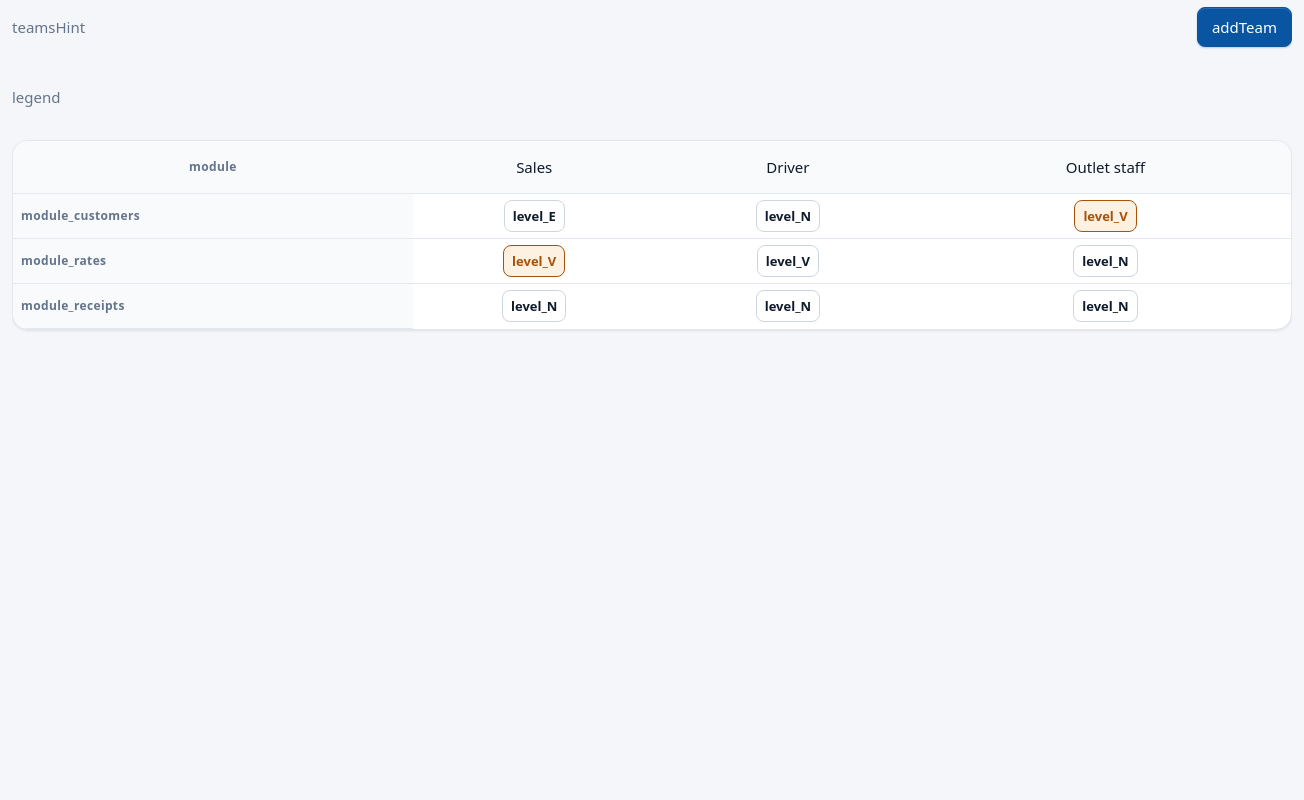
Test: TeamsTab › offers reset to default for a changed system team
Click the button "Sales": (534, 167) [501,147,567,187]
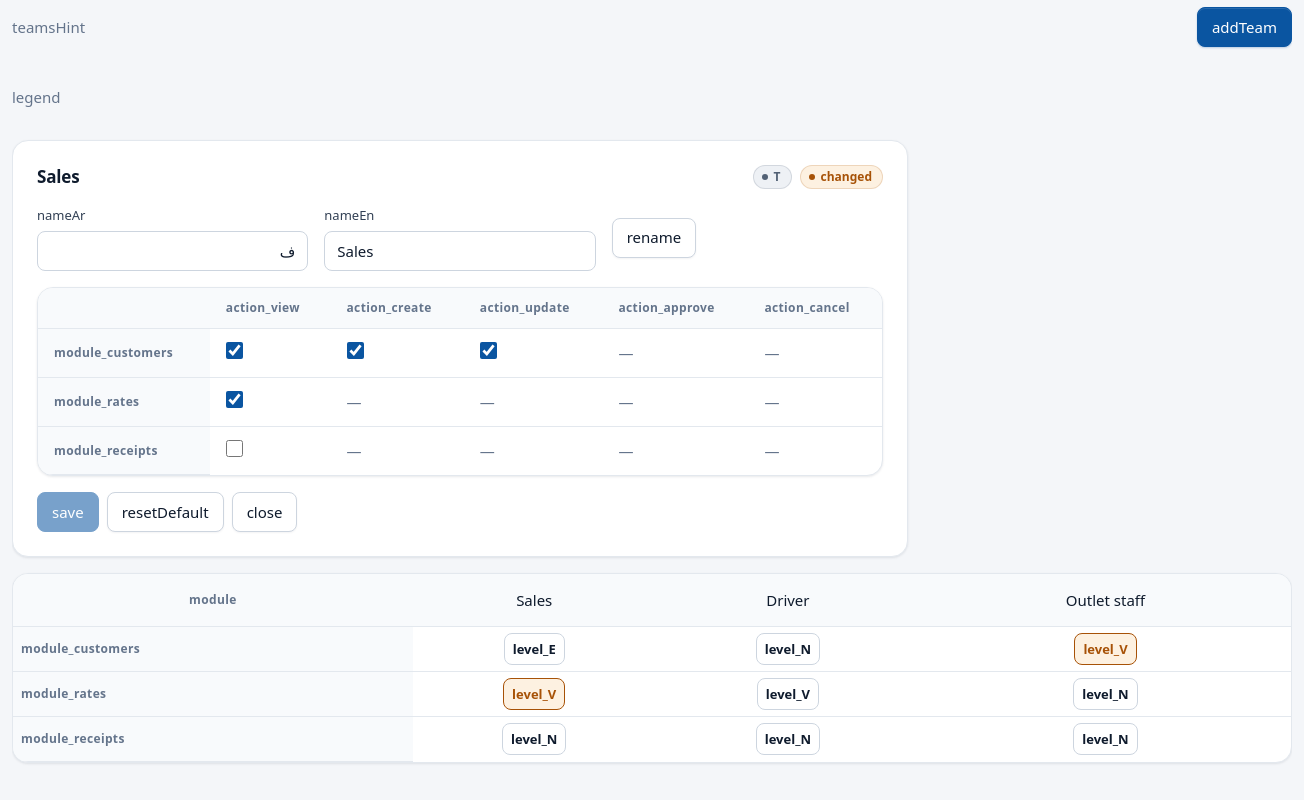
Now the text "resetDefault" is shown, box [107,492,224,532]
Now the text "changed" is shown, box [800,165,883,189]
